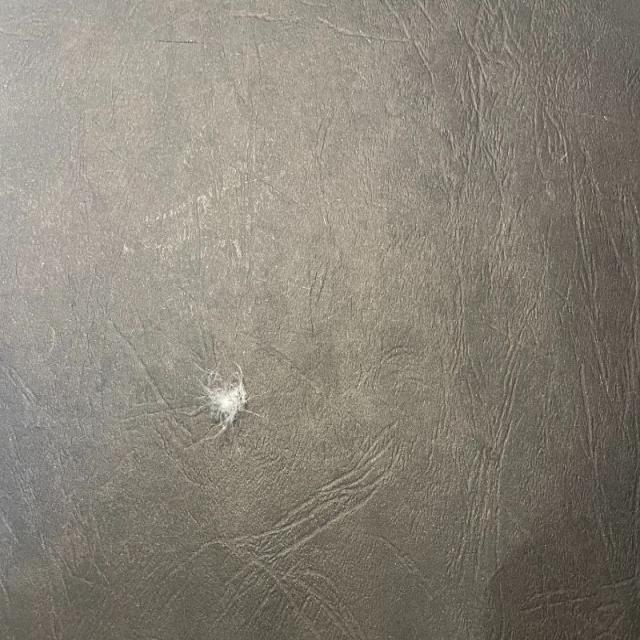feather: (197, 363, 257, 436)
